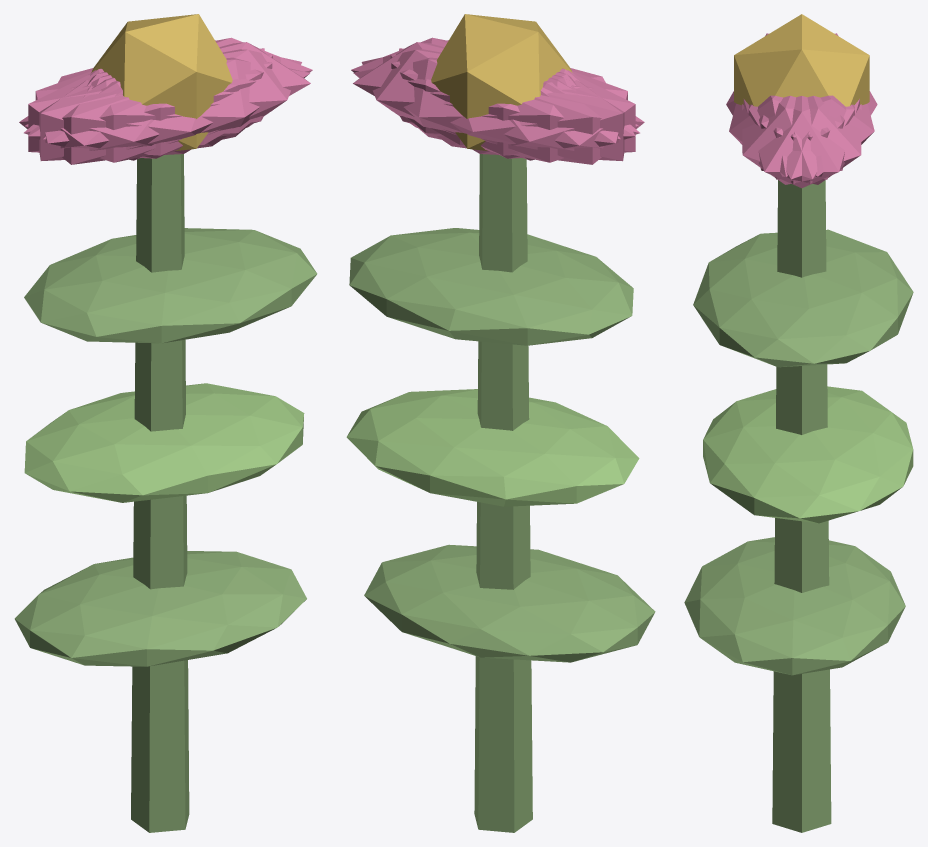
File: thaumatophyllum-bipinnatifidum.glb
3 renders of one model, left to right at view 1: azimuth 30°, elevation 25°; view 2: azimuth 150°, elevation 25°; view 3: azimuth 270°, elevation 25°, orthographic.
Visible parts, largest first — view 1: stem, leaf2, leaf0, leaf1, center, petal1, petal6, petal2, petal5, petal7, petal0, petal4 (+2 smaller); view 2: stem, leaf2, leaf1, leaf0, center, petal8, petal3, petal7, petal4, petal2, petal0, petal5 (+2 smaller); view 3: leaf2, stem, leaf1, leaf0, center, petal0, petal4, petal5, petal1, petal8.
Part boxes in pixels (bbox=[...]): stem: bbox=[131, 154, 189, 832]; leaf2: bbox=[24, 228, 317, 343]; leaf0: bbox=[14, 551, 306, 666]; leaf1: bbox=[24, 383, 304, 502]; center: bbox=[91, 14, 232, 151]; petal1: bbox=[24, 57, 309, 162]; petal6: bbox=[19, 70, 226, 164]; petal2: bbox=[39, 48, 264, 160]; petal5: bbox=[43, 49, 301, 155]; petal7: bbox=[28, 54, 272, 158]; petal0: bbox=[91, 42, 310, 145]; petal4: bbox=[25, 37, 312, 136]; stem: bbox=[474, 154, 532, 832]; leaf2: bbox=[349, 228, 633, 345]; leaf1: bbox=[346, 389, 639, 506]; leaf0: bbox=[364, 544, 655, 662]; center: bbox=[431, 14, 572, 150]; petal8: bbox=[353, 57, 639, 162]; petal3: bbox=[437, 70, 644, 164]; petal7: bbox=[399, 48, 624, 161]; petal4: bbox=[361, 49, 620, 155]; petal2: bbox=[390, 54, 635, 158]; petal0: bbox=[353, 42, 572, 145]; petal5: bbox=[351, 37, 638, 136]; leaf2: bbox=[693, 229, 913, 367]; stem: bbox=[772, 180, 831, 832]; leaf1: bbox=[703, 386, 913, 523]; leaf0: bbox=[684, 537, 905, 675]; center: bbox=[734, 14, 869, 106]; petal0: bbox=[743, 96, 859, 188]; petal4: bbox=[748, 95, 861, 184]; petal5: bbox=[742, 95, 854, 184]; petal1: bbox=[729, 95, 844, 176]; petal8: bbox=[759, 95, 874, 176].
Size of the model in its own units: 0.1452 by 0.3925 by 0.1035.
